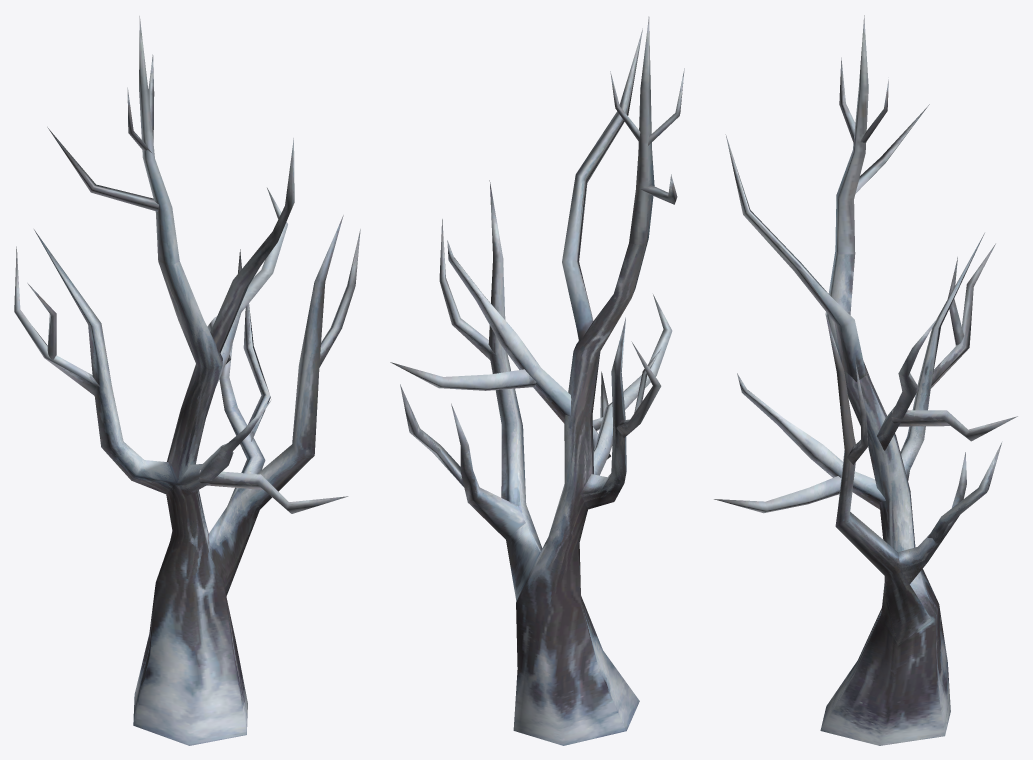
File: SM_Dead_tree_03.fbx
3 views of the same model, side by side, from view 1: azimuth 30°, elevation 25°; view 2: azimuth 150°, elevation 25°; view 3: azimuth 270°, elevation 25° (orthographic). The views are drawn at different scales.
Parts seen in each view (by area): view 1: SM_Dead_tree_03; view 2: SM_Dead_tree_03; view 3: SM_Dead_tree_03.
Part boxes in pixels (x1=…): SM_Dead_tree_03: x1=14, y1=16, x2=360, y2=745; SM_Dead_tree_03: x1=390, y1=16, x2=684, y2=745; SM_Dead_tree_03: x1=714, y1=15, x2=1017, y2=745.
Size of the model in its own units: 3.53 by 8.56 by 3.5.
